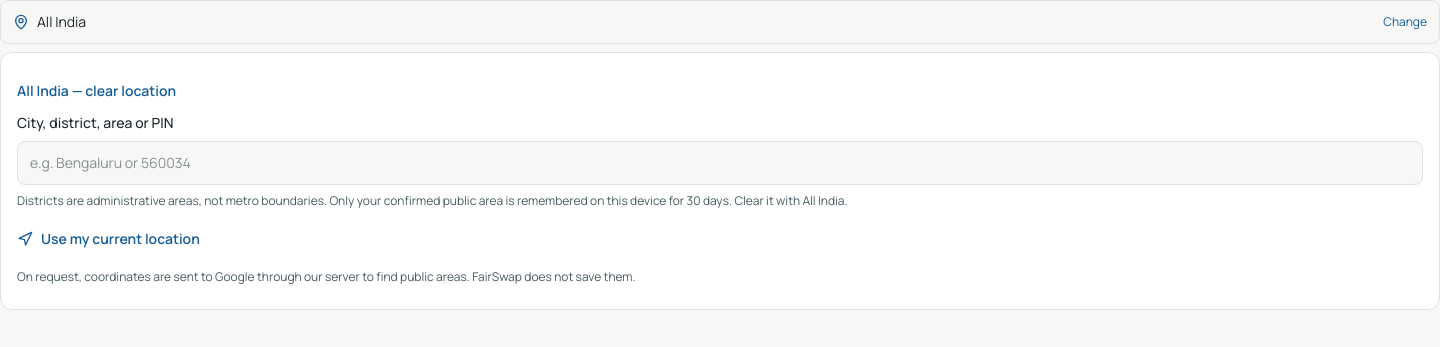
Test: location-aware discovery › requests GPS only after a tap and explains permission denial
This screenshot has width=1440, height=347.
Click the button "Use my current location" at (108, 239), box [17,217,200,261]
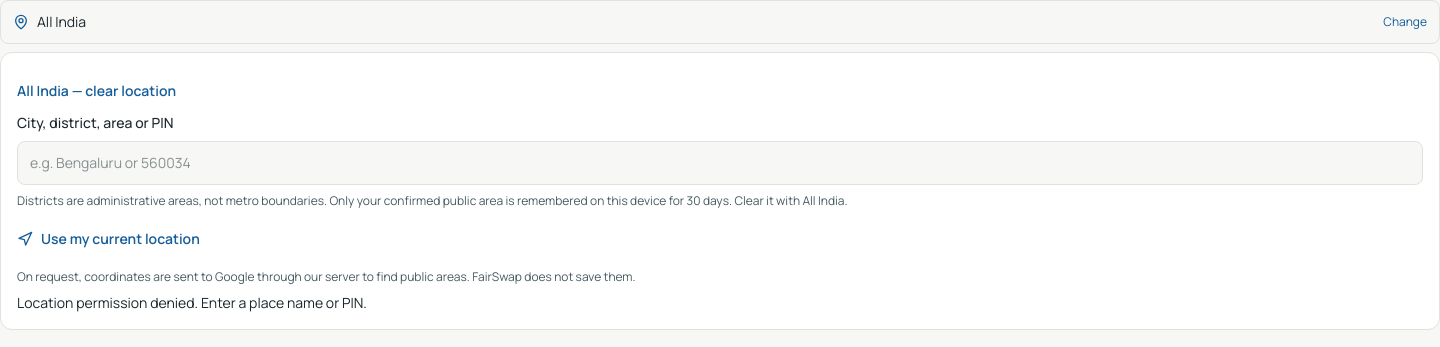
Result: the message shows "permission denied" at [17,293,367,312]
